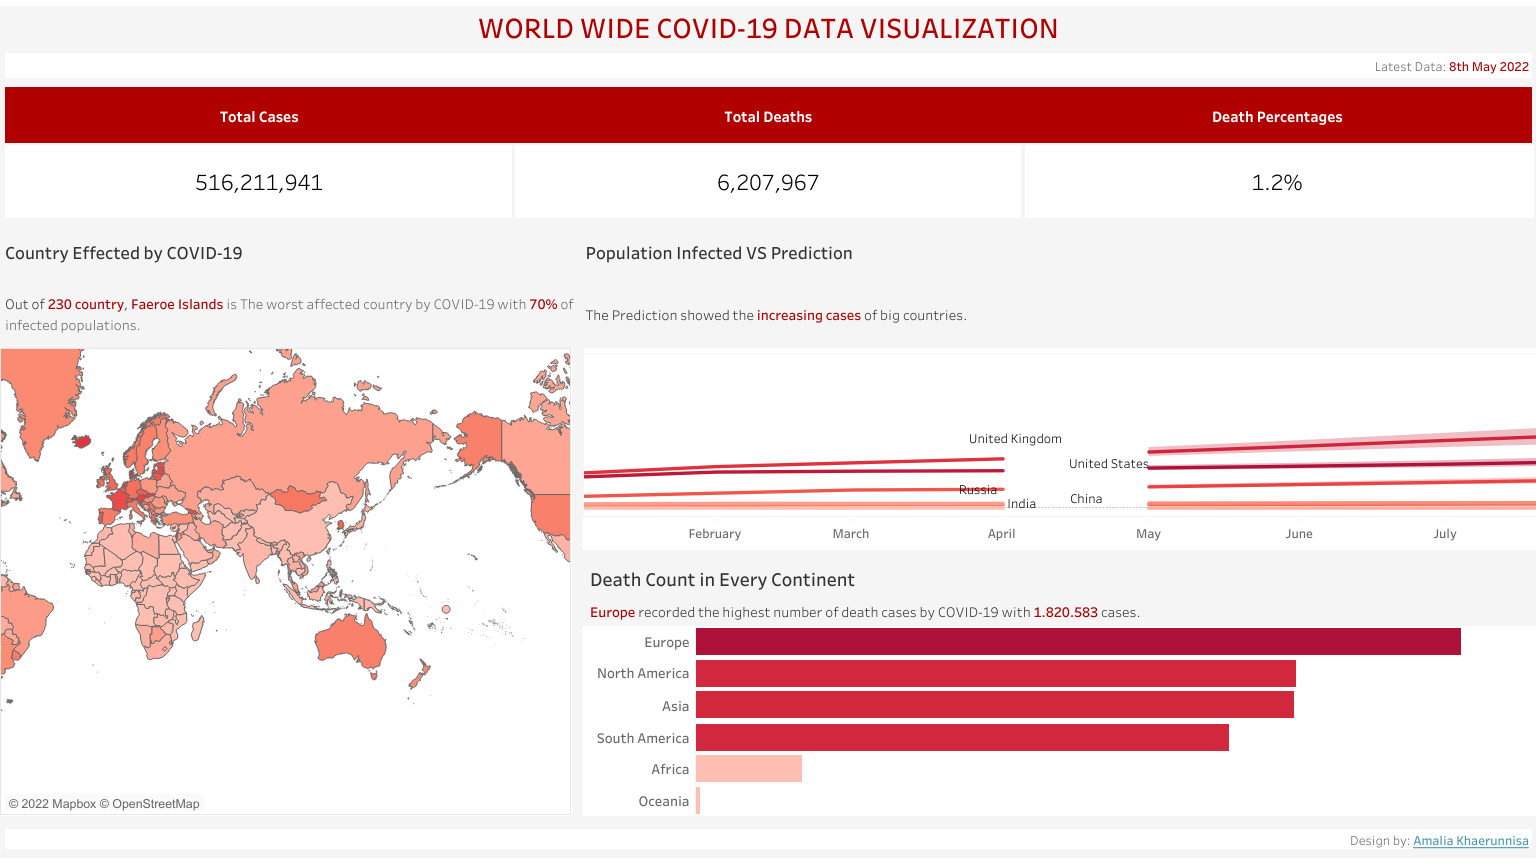

The page's visual inventory and layout, read from the dashboard file:
{"tool":"tableau","page":{"name":"Dashboard 1 (2)","canvas":[1366,768],"ordinal":1},"visuals":[{"type":"text","box":[0,5,1366,38]},{"type":"text","box":[0,43,1366,30]},{"type":"worksheet","title":"Sheet 1","mark":"Automatic","box":[0,73,1366,139]},{"type":"text","box":[0,212,516,41]},{"type":"text","box":[516,212,850,41]},{"type":"text","box":[0,253,516,53]},{"type":"text","box":[516,253,850,53]},{"type":"worksheet","title":"Sheet 3","mark":"Automatic","box":[0,306,508,419]},{"type":"worksheet","title":"Sheet 4","mark":"Automatic","rows":["PercentPopulationInfected"],"cols":["date"],"box":[518,306,848,175]},{"type":"text","box":[518,491,848,31]},{"type":"text","box":[518,522,848,26]},{"type":"worksheet","title":"Sheet 2","mark":"Bar","rows":["continent"],"cols":["TotalDeathCount"],"box":[518,548,848,177]},{"type":"text","box":[0,733,1366,30]}]}

Visuals, with their boxes in screenshot pixels (x1, y1, x2, y2), scaled from the page's 1366x768 canvas onto the 1536x863 screenshot:
text: [left=0, top=6, right=1535, bottom=48]
text: [left=0, top=48, right=1535, bottom=82]
"Sheet 1" worksheet: [left=0, top=82, right=1535, bottom=238]
text: [left=0, top=238, right=580, bottom=284]
text: [left=580, top=238, right=1535, bottom=284]
text: [left=0, top=284, right=580, bottom=344]
text: [left=580, top=284, right=1535, bottom=344]
"Sheet 3" worksheet: [left=0, top=344, right=571, bottom=815]
"Sheet 4" worksheet: [left=582, top=344, right=1535, bottom=540]
text: [left=582, top=552, right=1535, bottom=587]
text: [left=582, top=587, right=1535, bottom=616]
"Sheet 2" worksheet (Bar marks): [left=582, top=616, right=1535, bottom=815]
text: [left=0, top=824, right=1535, bottom=857]
